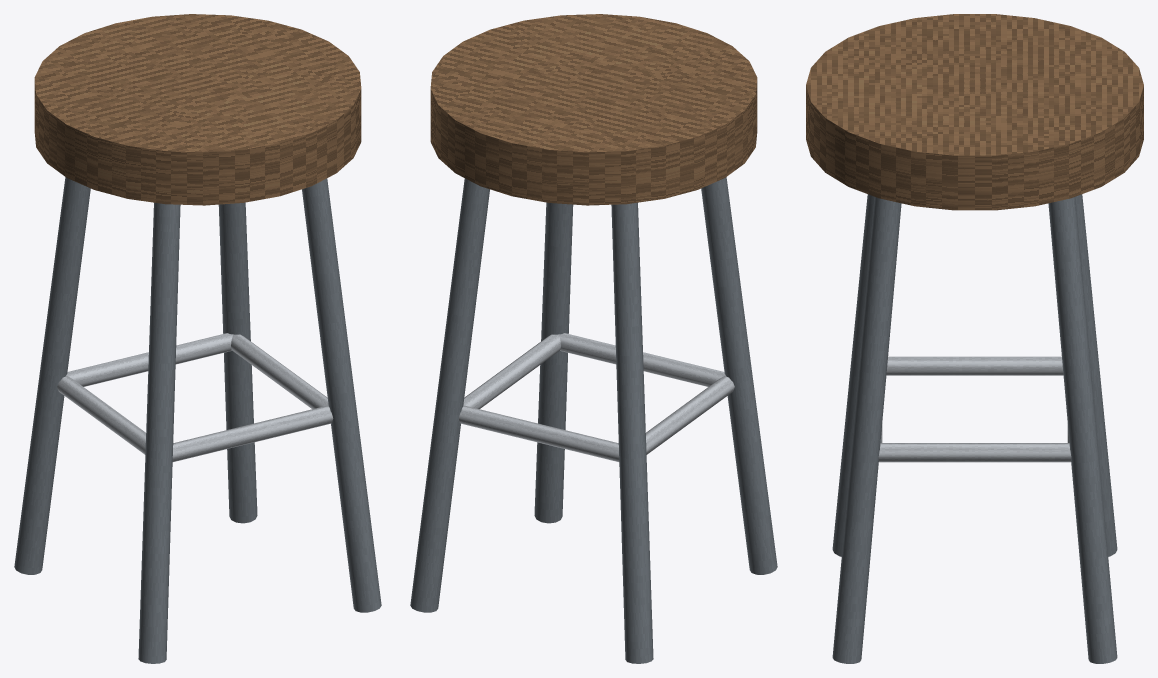
The model's file is stool_bar02.glb.
3 renders of one model, left to right at view 1: azimuth 30°, elevation 25°; view 2: azimuth 150°, elevation 25°; view 3: azimuth 270°, elevation 25°, orthographic. The views are drawn at different scales.
Visible parts, largest first — view 1: seat, legs, footrest; view 2: seat, legs, footrest; view 3: seat, legs, footrest.
Part boxes in pixels (box(x1,y1,x2,y2)): seat: box(34, 14, 361, 205); legs: box(14, 177, 381, 663); footrest: box(57, 333, 333, 461); seat: box(430, 14, 757, 205); legs: box(410, 177, 777, 663); footrest: box(458, 333, 734, 461); seat: box(806, 14, 1143, 210); legs: box(832, 194, 1117, 663); footrest: box(878, 356, 1071, 462).
Size of the model in its own units: 0.4169 by 0.7151 by 0.42.
3 materials, 3 textured.
